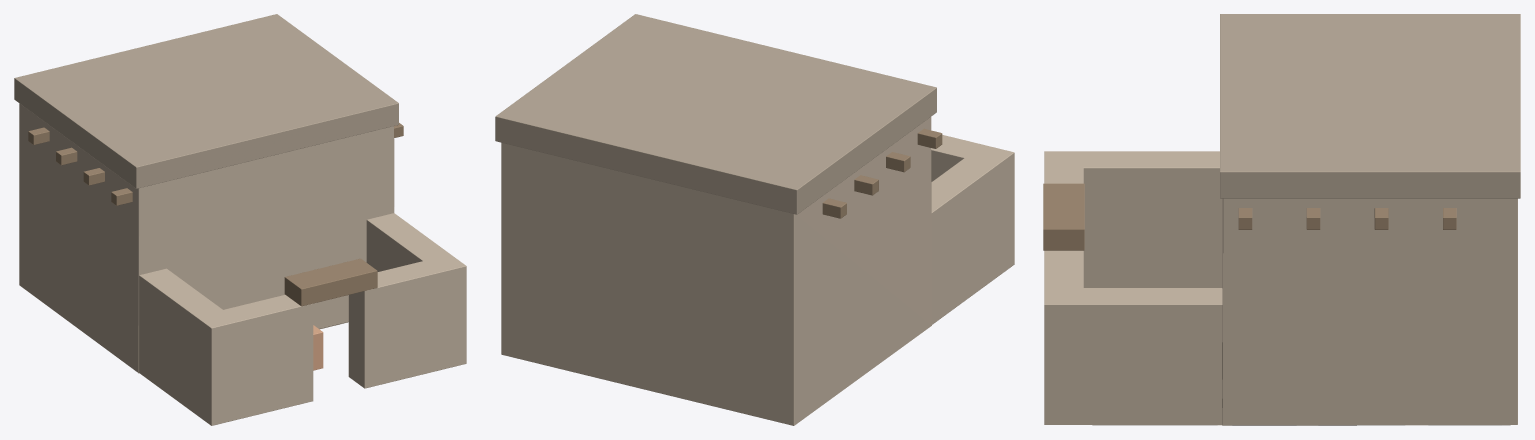
The model's file is House_Chalco_d.glb.
3 views of the same model, side by side, from view 1: azimuth 30°, elevation 25°; view 2: azimuth 150°, elevation 25°; view 3: azimuth 270°, elevation 25° (orthographic). The views are drawn at different scales.
Visible parts, largest first — view 1: House_Chalco_d; view 2: House_Chalco_d; view 3: House_Chalco_d.
Boxes of the visible parts, x1,y1,x2,y2 form: House_Chalco_d: [14, 14, 466, 425]; House_Chalco_d: [495, 14, 1014, 425]; House_Chalco_d: [1043, 14, 1520, 425].
Size of what is drawn, in the model's own units: 4.14 by 2.86 by 4.84.
